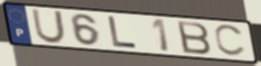1: (151, 17, 170, 54)
6: (69, 13, 101, 47)
B: (175, 19, 213, 56)
C: (213, 23, 248, 58)
L: (106, 15, 139, 50)
U: (30, 8, 68, 46)
